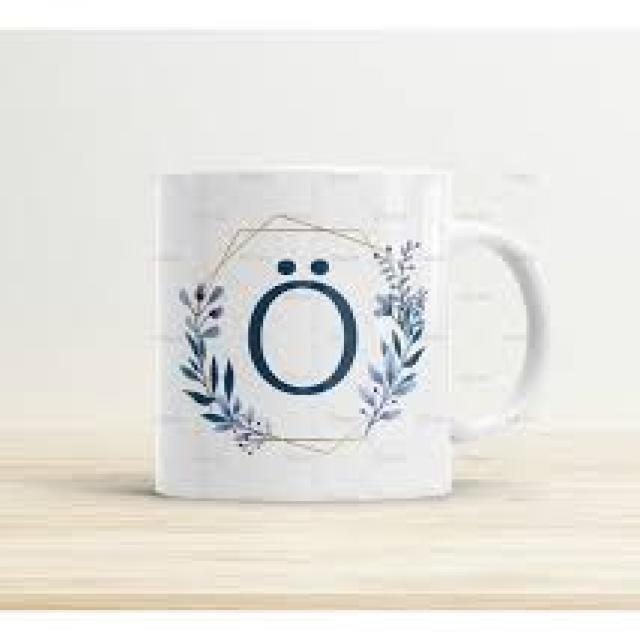taza: (157, 165, 550, 504)
